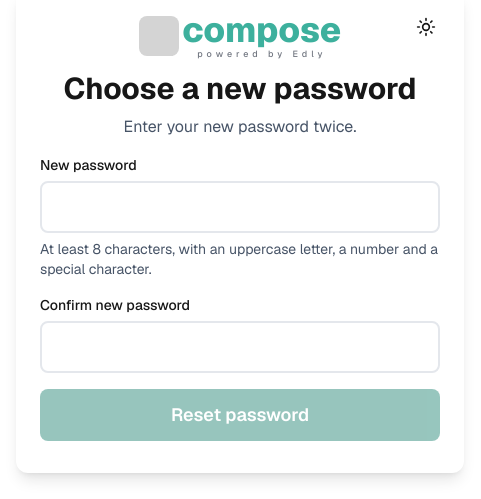
Test case: ResetPasswordForm › shows a weak password error against the new password field
Type "short" into the password field labelled "New password" at (240, 207), box [40,181,440,233]
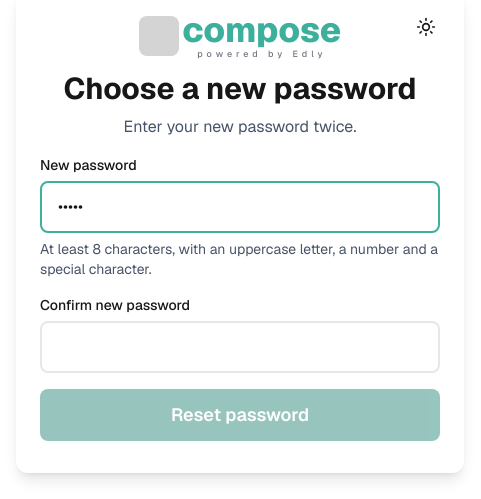
Type "short" into the password field labelled "Confirm new password" at (240, 347), box [40,321,440,373]
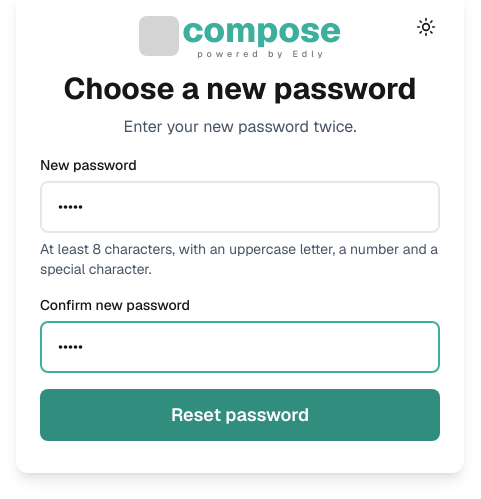
Click the button "Reset password" at (240, 415), box [40,389,440,441]
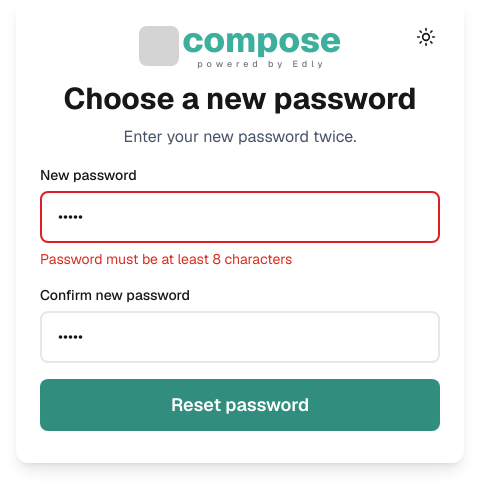
Result: the text "Password must be at least 8 characters" is shown at [40,250,292,268]
